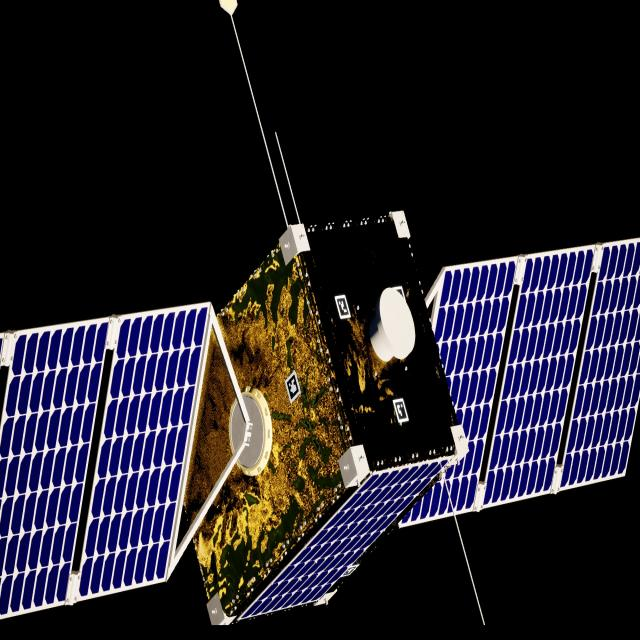medium_debris: (0, 128, 640, 629)
